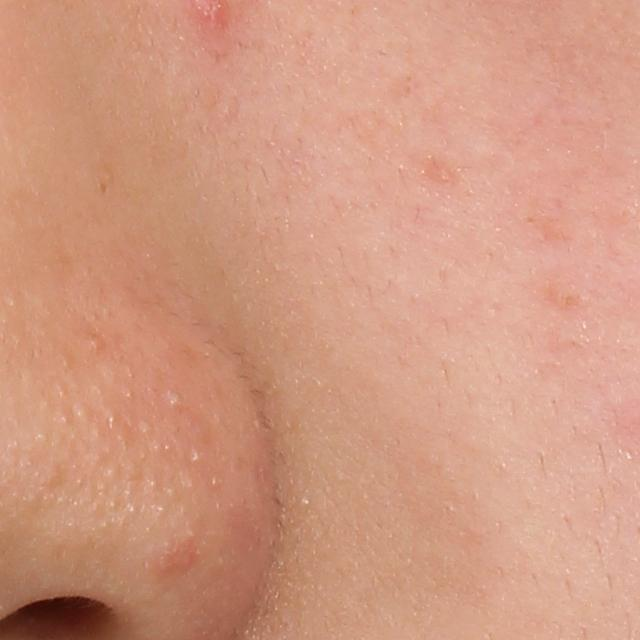comedo: (160, 383, 187, 412), (85, 332, 108, 362), (71, 400, 95, 427), (100, 461, 122, 485), (188, 444, 208, 467), (134, 415, 154, 436), (149, 501, 170, 519), (122, 501, 141, 519), (28, 430, 49, 446), (143, 475, 161, 493), (159, 482, 178, 499)
